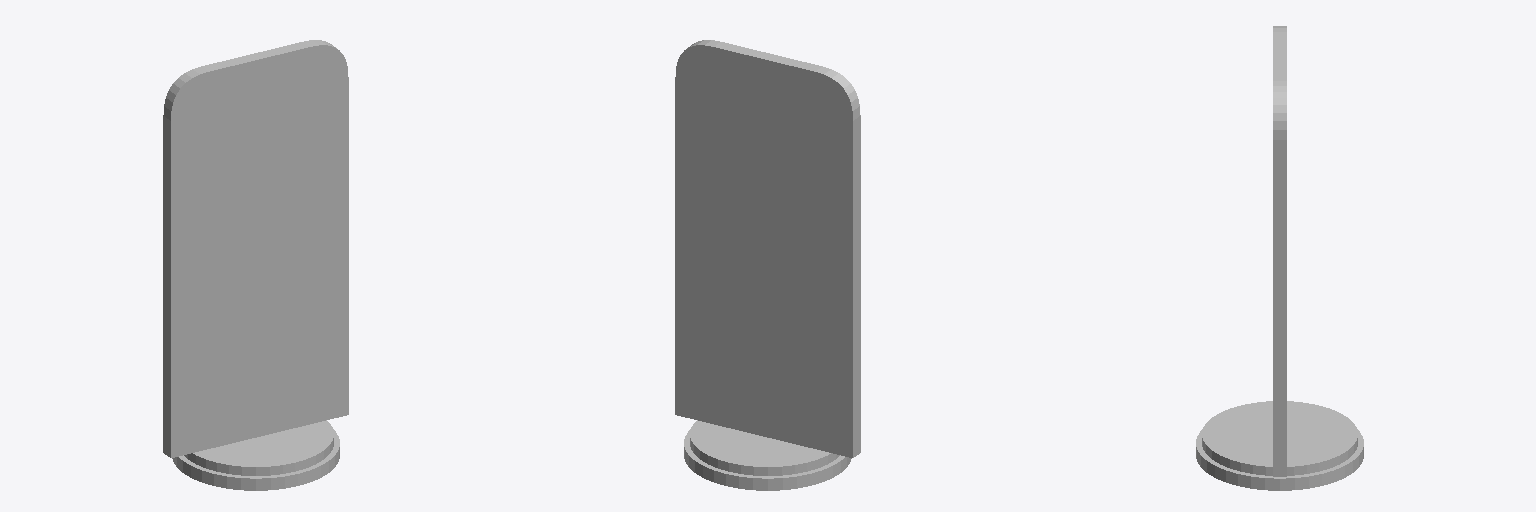
Rendered from Mini1_Final.obj.
3 views of the same model, side by side, from view 1: azimuth 30°, elevation 25°; view 2: azimuth 150°, elevation 25°; view 3: azimuth 270°, elevation 25° (orthographic).
Parts seen in each view (by area): view 1: 1_LP; view 2: 1_LP; view 3: 1_LP.
Part boxes in pixels (x1,y1,x2,y2): 1_LP: (163, 40, 348, 490); 1_LP: (675, 40, 860, 490); 1_LP: (1196, 26, 1363, 490).
Size of the model in its own units: 1.75 by 3.75 by 1.44.